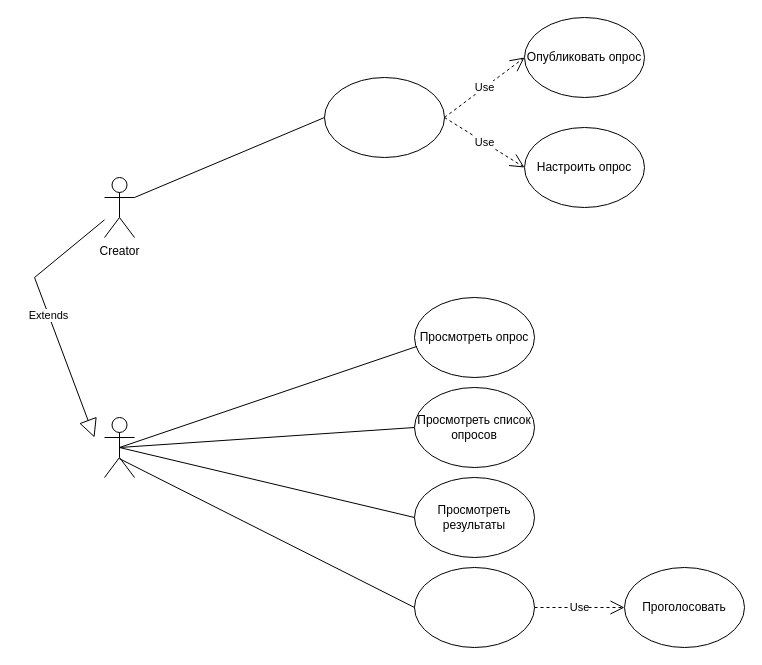
This 762x665 diagram has some shape labels left out. The centre of each missing label's shape, as x and y in pixels:
User: pixel 119 447
Изменить голос: pixel 474 607
Создать опрос: pixel 384 117
